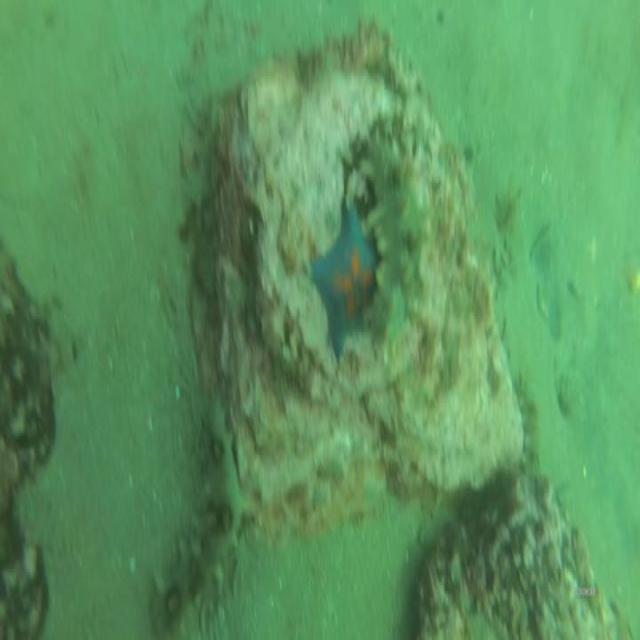holothurian: (150, 390, 246, 637), (348, 130, 428, 344)
starfish: (308, 199, 382, 368)
